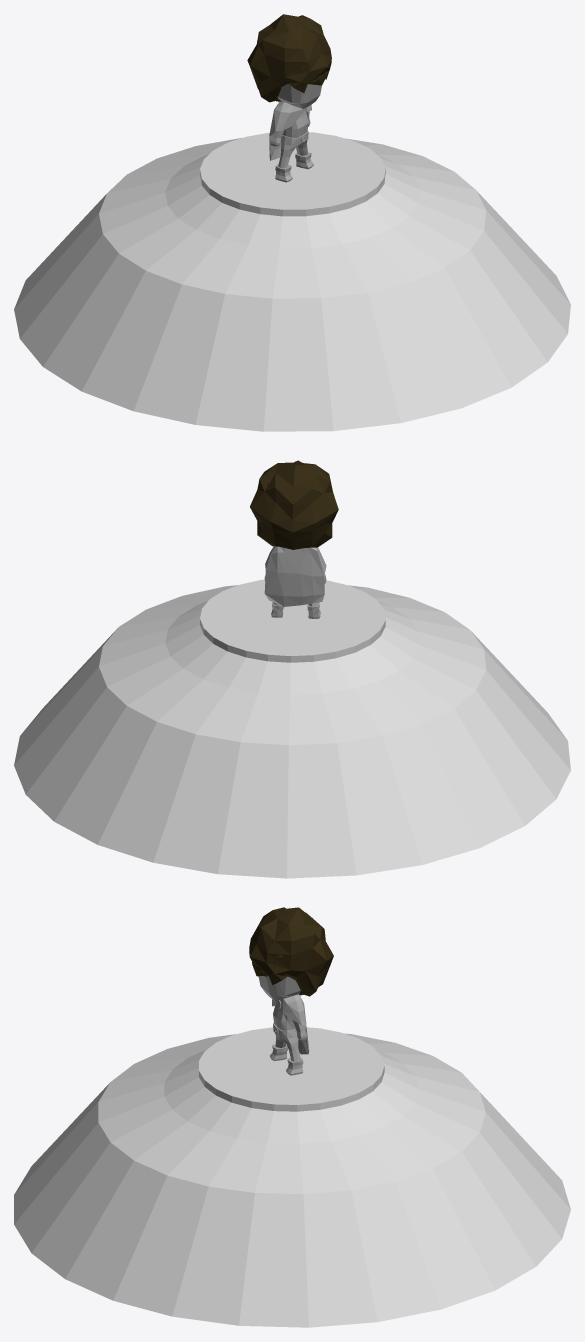
The model's file is custom.fbx.
3 views of the same model, one above another, from view 1: azimuth 30°, elevation 25°; view 2: azimuth 150°, elevation 25°; view 3: azimuth 270°, elevation 25° (orthographic).
Visible parts, largest first — view 1: Cilindro, Cabel2, Corpo1, Capa; view 2: Cilindro, Cabel2, Capa; view 3: Cilindro, Cabel2, Corpo1, Capa.
Part boxes in pixels (bbox=[...]): Cilindro: bbox=[14, 132, 570, 431]; Cabel2: bbox=[247, 14, 331, 102]; Corpo1: bbox=[270, 84, 321, 182]; Capa: bbox=[269, 101, 311, 160]; Cilindro: bbox=[14, 579, 570, 878]; Cabel2: bbox=[250, 460, 338, 549]; Capa: bbox=[264, 546, 326, 606]; Cilindro: bbox=[14, 1027, 570, 1327]; Cabel2: bbox=[249, 907, 333, 996]; Corpo1: bbox=[258, 975, 307, 1075]; Capa: bbox=[272, 994, 309, 1054].
Bounding box in the file's own units: 1750 × 1036 × 1746.
